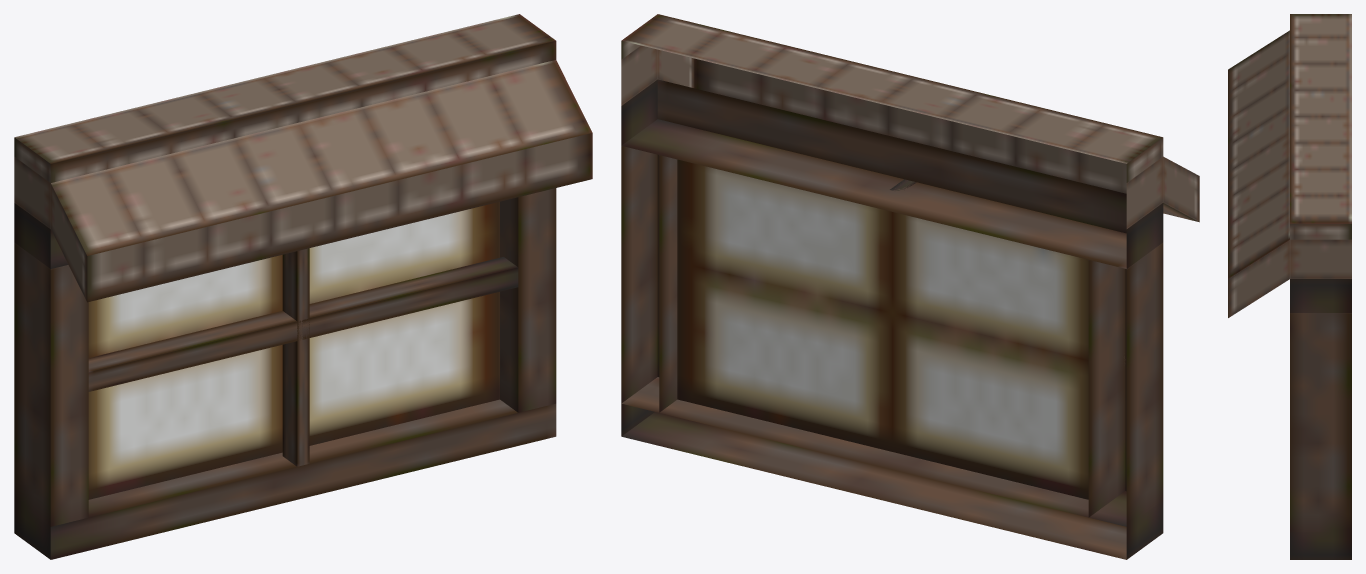
File: Poly_SF_Outside_B_Window_18.obj
3 renders of one model, left to right at view 1: azimuth 30°, elevation 25°; view 2: azimuth 150°, elevation 25°; view 3: azimuth 270°, elevation 25°, orthographic. The views are drawn at different scales.
Parts seen in each view (by area): view 1: Cube.003, Cube.001, Cube.002, Cube.004; view 2: Cube.001, Cube.003, Cube.002; view 3: Cube.003, Cube.002, Cube.001.
Boxes of the visible parts, bbox=[...] form: Cube.003: bbox=[14, 14, 592, 302]; Cube.001: bbox=[14, 202, 556, 559]; Cube.002: bbox=[14, 188, 556, 526]; Cube.004: bbox=[88, 248, 518, 466]; Cube.001: bbox=[621, 79, 1163, 559]; Cube.003: bbox=[621, 14, 1199, 228]; Cube.002: bbox=[621, 146, 1163, 526]; Cube.003: bbox=[1228, 14, 1351, 317]; Cube.002: bbox=[1290, 313, 1351, 531]; Cube.001: bbox=[1290, 279, 1351, 559].
Bounding box in the file's own units: 0.8 × 0.599 × 0.2.
1 material, 1 textured.
